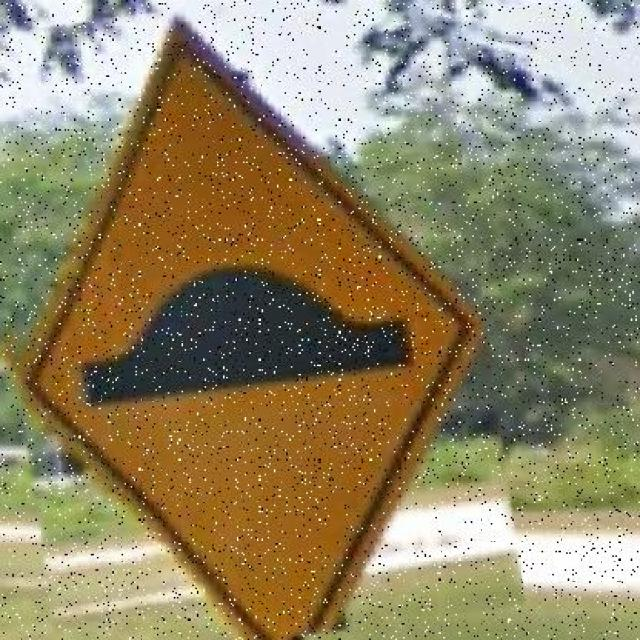Polisi Tidur: (0, 0, 503, 640)
